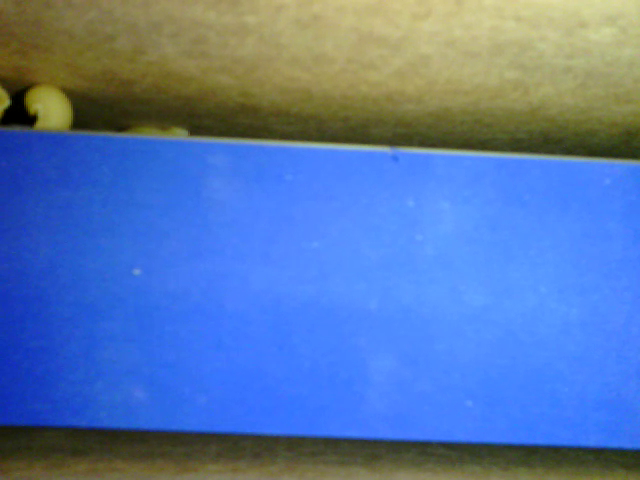shell: (24, 85, 71, 129)
